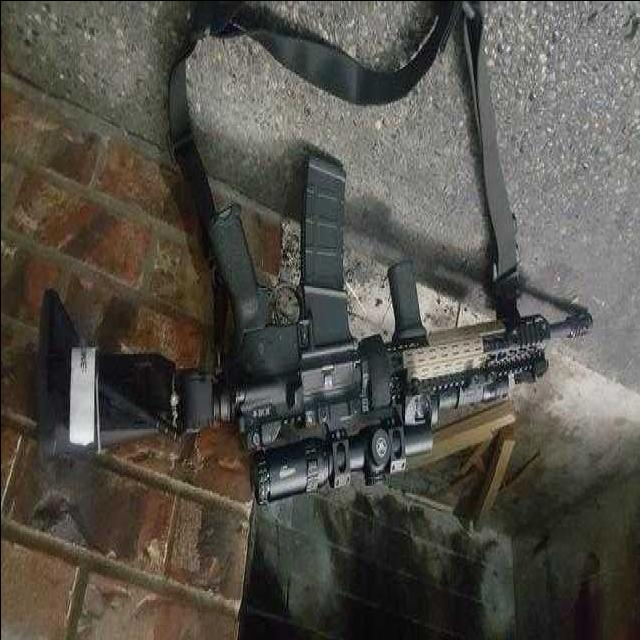heavyweapon: (25, 113, 614, 541)
